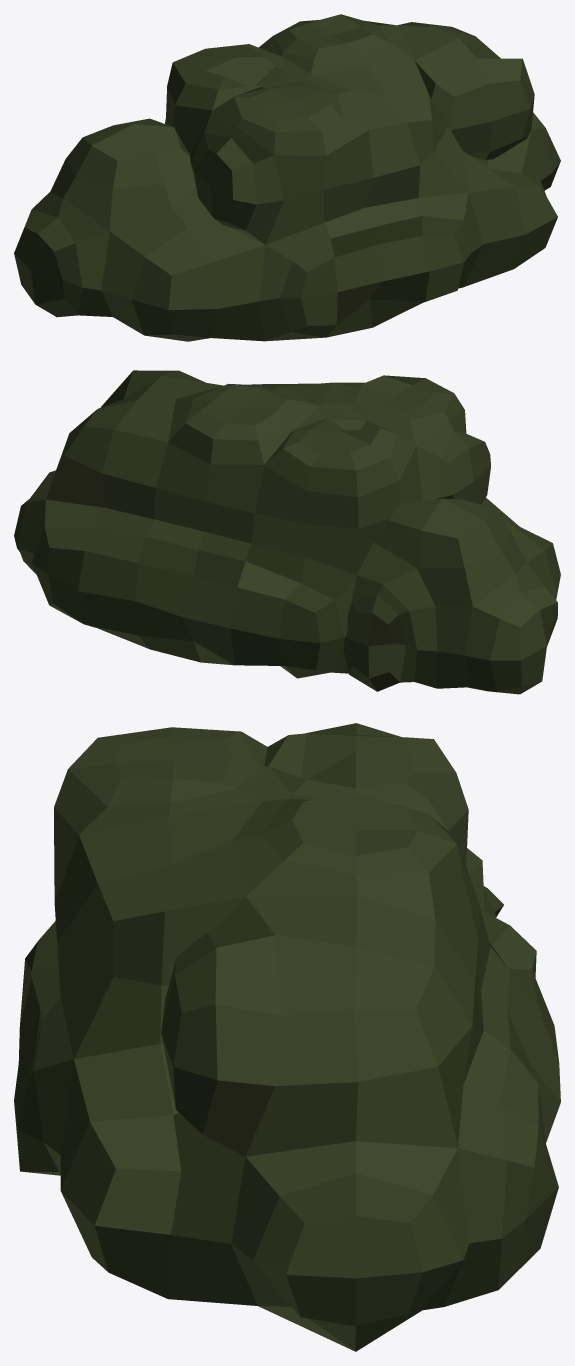
File: buisson .fbx
3 views of the same model, one above another, from view 1: azimuth 30°, elevation 25°; view 2: azimuth 150°, elevation 25°; view 3: azimuth 270°, elevation 25° (orthographic). The views are drawn at different scales.
Parts seen in each view (by area): view 1: Cube.056; view 2: Cube.056; view 3: Cube.056.
Part boxes in pixels (box(x1,y1,x2,y2)): Cube.056: box(14, 14, 560, 341); Cube.056: box(14, 370, 560, 694); Cube.056: box(14, 723, 560, 1351).
Bounding box in the file's own units: 241 × 104 × 132.
